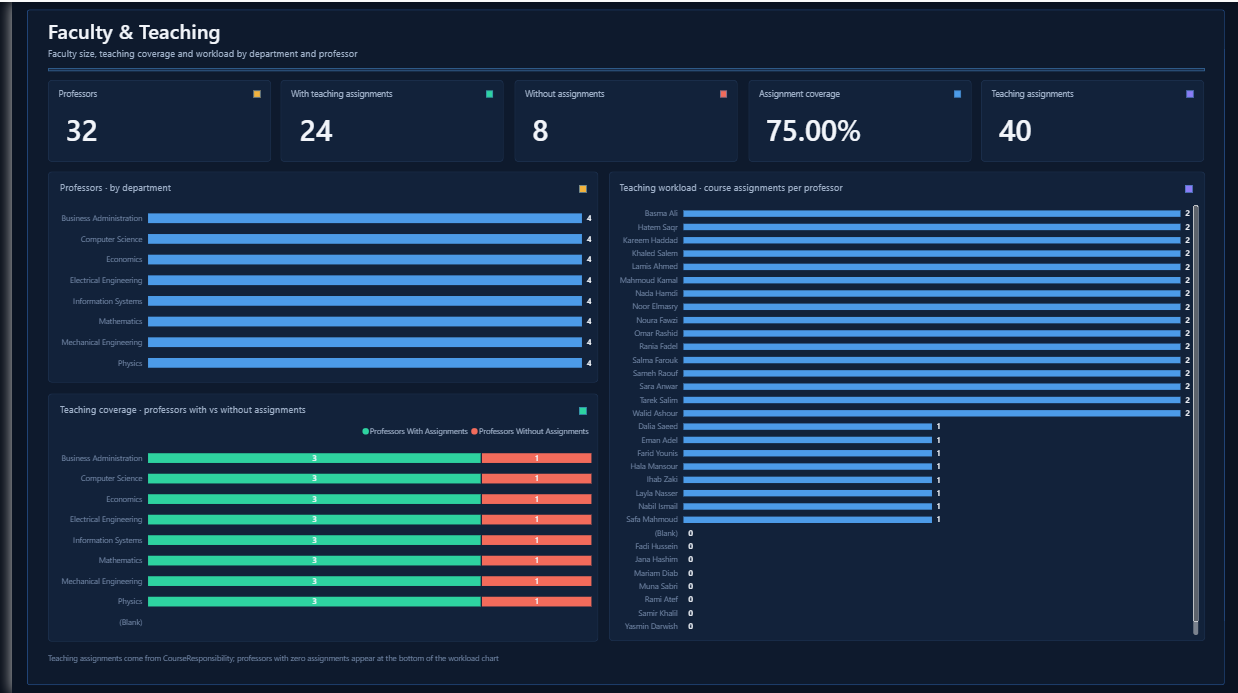

This screenshot's page, from the dashboard's own definition file:
{"tool":"powerbi","page":{"name":"Faculty & Teaching","canvas":[1920,1080],"ordinal":3},"visuals":[{"type":"shape","box":[24,12,1872,1056],"z":100},{"type":"textbox","box":[56,24,1200,46],"z":200},{"type":"textbox","box":[56,70,1250,26],"z":300},{"type":"shape","box":[56,104,1808,5],"z":400},{"type":"shape","box":[56,122,348.8,128],"z":500},{"type":"textbox","box":[72,134,292.8,22],"z":600},{"type":"shape","box":[376.8,139,11,11],"z":700},{"type":"cardVisual","fields":{"Data":["Professor.Total Professors"]},"box":[68,158,320.8,82],"z":800},{"type":"shape","box":[420.8,122,348.8,128],"z":900},{"type":"textbox","box":[436.8,134,292.8,22],"z":1000},{"type":"shape","box":[741.6,139,11,11],"z":1100},{"type":"cardVisual","fields":{"Data":["Professor.Professors With Assignments"]},"box":[432.8,158,320.8,82],"z":1200},{"type":"shape","box":[785.6,122,348.8,128],"z":1300},{"type":"textbox","box":[801.6,134,292.8,22],"z":1400},{"type":"shape","box":[1106.4,139,11,11],"z":1500},{"type":"cardVisual","fields":{"Data":["Professor.Professors Without Assignments"]},"box":[797.6,158,320.8,82],"z":1600},{"type":"shape","box":[1150.4,122,348.8,128],"z":1700},{"type":"textbox","box":[1166.4,134,292.8,22],"z":1800},{"type":"shape","box":[1471.2,139,11,11],"z":1900},{"type":"cardVisual","fields":{"Data":["Professor.Assignment Coverage Rate"]},"box":[1162.4,158,320.8,82],"z":2000},{"type":"shape","box":[1515.2,122,348.8,128],"z":2100},{"type":"textbox","box":[1531.2,134,292.8,22],"z":2200},{"type":"shape","box":[1836,139,11,11],"z":2300},{"type":"cardVisual","fields":{"Data":["CourseResponsibility.Teaching Assignments"]},"box":[1527.2,158,320.8,82],"z":2400},{"type":"shape","box":[56,266,860.2,330],"z":2500},{"type":"textbox","box":[74,280,790.2,24],"z":2600},{"type":"shape","box":[886.2,286,12,12],"z":2700},{"type":"clusteredBarChart","fields":{"Category":["Department.DepartmentName"],"Y":["Professor.Total Professors"]},"box":[66,310,840.2,276],"z":2800},{"type":"shape","box":[56,612,860.2,388],"z":2900},{"type":"textbox","box":[74,626,790.2,24],"z":3000},{"type":"shape","box":[886.2,632,12,12],"z":3100},{"type":"barChart","fields":{"Category":["Department.DepartmentName"],"Y":["Professor.Professors With Assignments","Professor.Professors Without Assignments"]},"box":[66,656,840.2,334],"z":3200},{"type":"shape","box":[932.2,266,931.8,734],"z":3300},{"type":"textbox","box":[950.2,280,861.8,24],"z":3400},{"type":"shape","box":[1834,286,12,12],"z":3500},{"type":"clusteredBarChart","fields":{"Category":["Professor.Name"],"Y":["CourseResponsibility.Teaching Assignments"]},"box":[942.2,310,911.8,680],"z":3600},{"type":"textbox","box":[56,1014,1400,24],"z":3700}]}

Visuals, with their boxes in screenshot pixels (x1, y1, x2, y2), scaled from the page's 1920x1080 canvas onto the 1238x693 screenshot:
shape: pyautogui.locateOnScreen(15, 8, 1223, 685)
textbox: pyautogui.locateOnScreen(36, 15, 810, 45)
textbox: pyautogui.locateOnScreen(36, 45, 842, 62)
shape: pyautogui.locateOnScreen(36, 67, 1202, 70)
shape: pyautogui.locateOnScreen(36, 78, 261, 160)
textbox: pyautogui.locateOnScreen(46, 86, 235, 100)
shape: pyautogui.locateOnScreen(243, 89, 250, 96)
cardVisual - Professor.Total Professors: pyautogui.locateOnScreen(44, 101, 251, 154)
shape: pyautogui.locateOnScreen(271, 78, 496, 160)
textbox: pyautogui.locateOnScreen(282, 86, 470, 100)
shape: pyautogui.locateOnScreen(478, 89, 485, 96)
cardVisual - Professor.Professors With Assignments: pyautogui.locateOnScreen(279, 101, 486, 154)
shape: pyautogui.locateOnScreen(507, 78, 731, 160)
textbox: pyautogui.locateOnScreen(517, 86, 706, 100)
shape: pyautogui.locateOnScreen(713, 89, 720, 96)
cardVisual - Professor.Professors Without Assignments: pyautogui.locateOnScreen(514, 101, 721, 154)
shape: pyautogui.locateOnScreen(742, 78, 967, 160)
textbox: pyautogui.locateOnScreen(752, 86, 941, 100)
shape: pyautogui.locateOnScreen(949, 89, 956, 96)
cardVisual - Professor.Assignment Coverage Rate: pyautogui.locateOnScreen(750, 101, 956, 154)
shape: pyautogui.locateOnScreen(977, 78, 1202, 160)
textbox: pyautogui.locateOnScreen(987, 86, 1176, 100)
shape: pyautogui.locateOnScreen(1184, 89, 1191, 96)
cardVisual - CourseResponsibility.Teaching Assignments: pyautogui.locateOnScreen(985, 101, 1192, 154)
shape: pyautogui.locateOnScreen(36, 171, 591, 382)
textbox: pyautogui.locateOnScreen(48, 180, 557, 195)
shape: pyautogui.locateOnScreen(571, 184, 579, 191)
clusteredBarChart - Department.DepartmentName x Professor.Total Professors: pyautogui.locateOnScreen(43, 199, 584, 376)
shape: pyautogui.locateOnScreen(36, 393, 591, 642)
textbox: pyautogui.locateOnScreen(48, 402, 557, 417)
shape: pyautogui.locateOnScreen(571, 406, 579, 413)
barChart - Department.DepartmentName x Professor.Professors With Assignments: pyautogui.locateOnScreen(43, 421, 584, 635)
shape: pyautogui.locateOnScreen(601, 171, 1202, 642)
textbox: pyautogui.locateOnScreen(613, 180, 1168, 195)
shape: pyautogui.locateOnScreen(1183, 184, 1190, 191)
clusteredBarChart - Professor.Name x CourseResponsibility.Teaching Assignments: pyautogui.locateOnScreen(608, 199, 1195, 635)
textbox: pyautogui.locateOnScreen(36, 651, 939, 666)
